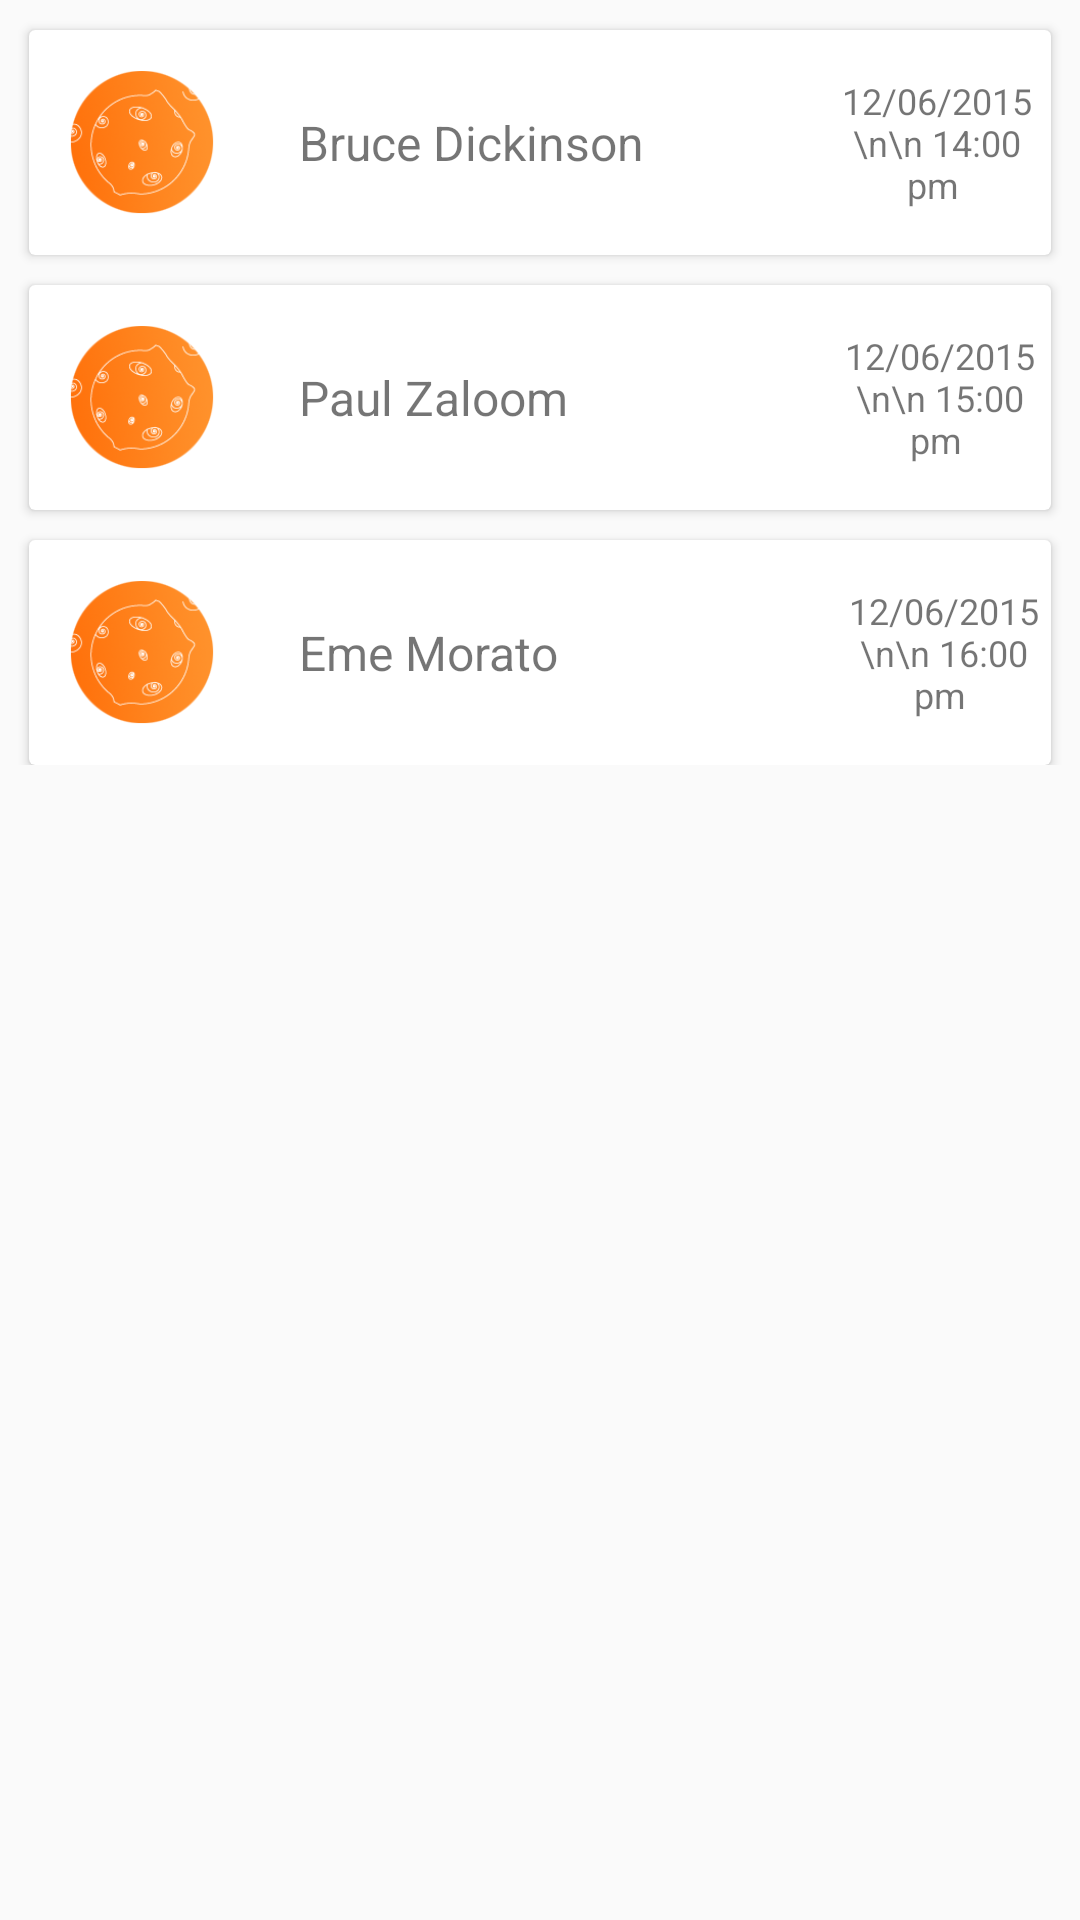

Icons on this 1080 × 1920 Android screen, each with its box as (x1, y1, x2, y2):
marte: (71, 71, 213, 213), (71, 326, 213, 468), (29, 541, 213, 765)
